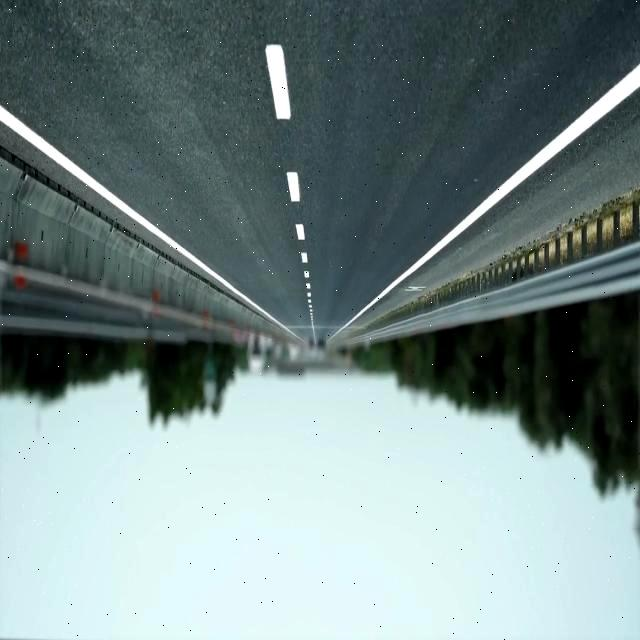lane: (332, 64, 640, 337), (0, 104, 301, 338), (268, 46, 289, 119), (535, 136, 565, 159), (286, 172, 300, 202), (295, 224, 305, 240)
road: (0, 1, 639, 339), (361, 91, 639, 321)
